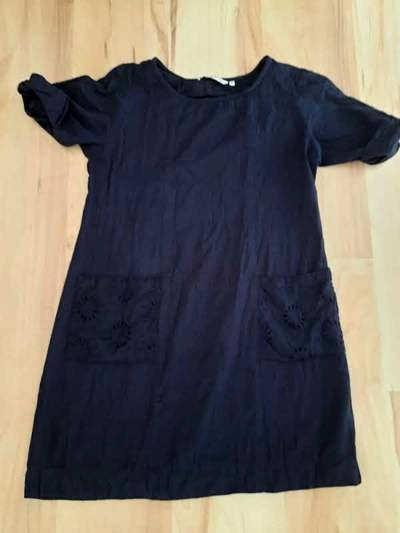Dress: (9, 38, 395, 509)
